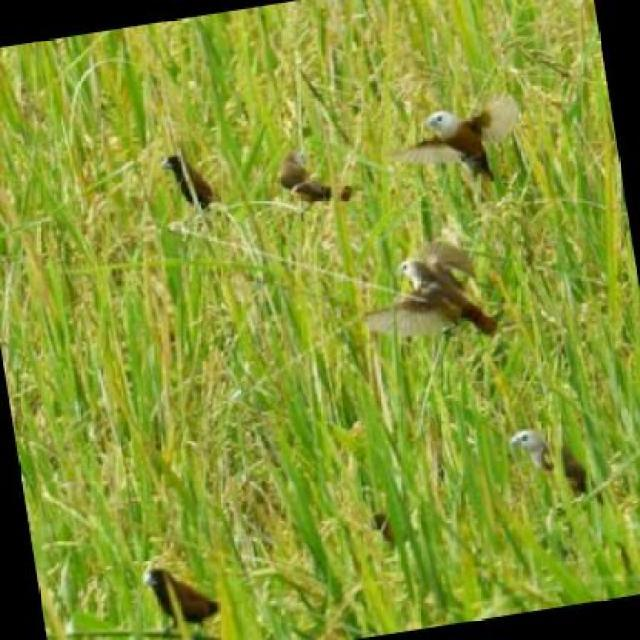Bird: (361, 237, 508, 345), (384, 97, 525, 191), (508, 427, 603, 506), (142, 564, 224, 636), (275, 148, 354, 205), (161, 151, 215, 215)
